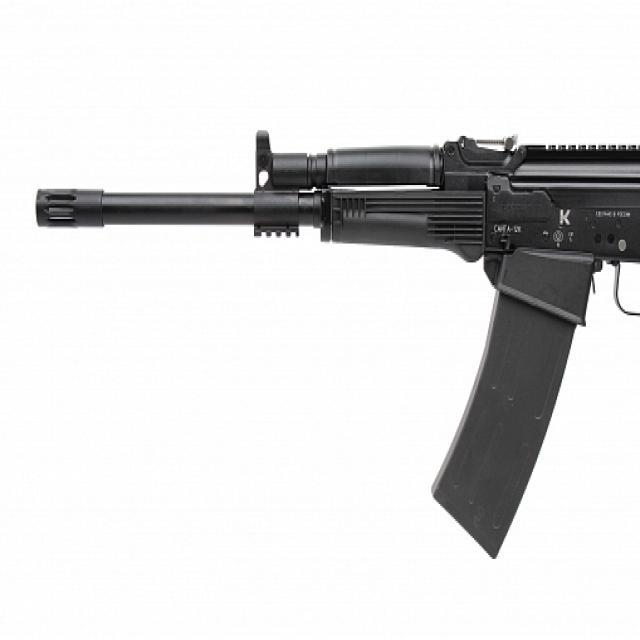weapon: (34, 131, 640, 560)
